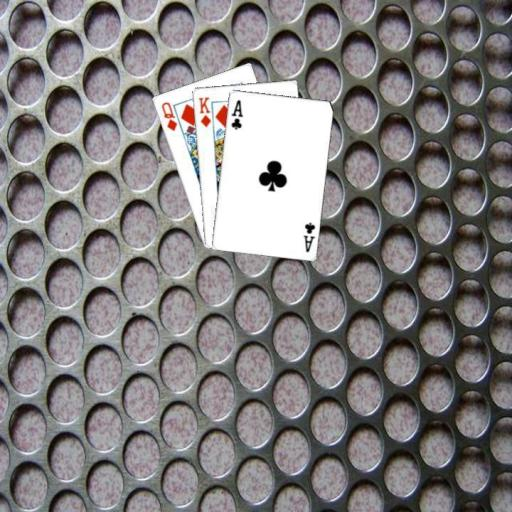card-corner: (158, 99, 178, 132), (195, 93, 212, 129), (227, 97, 244, 131), (300, 219, 317, 253)
